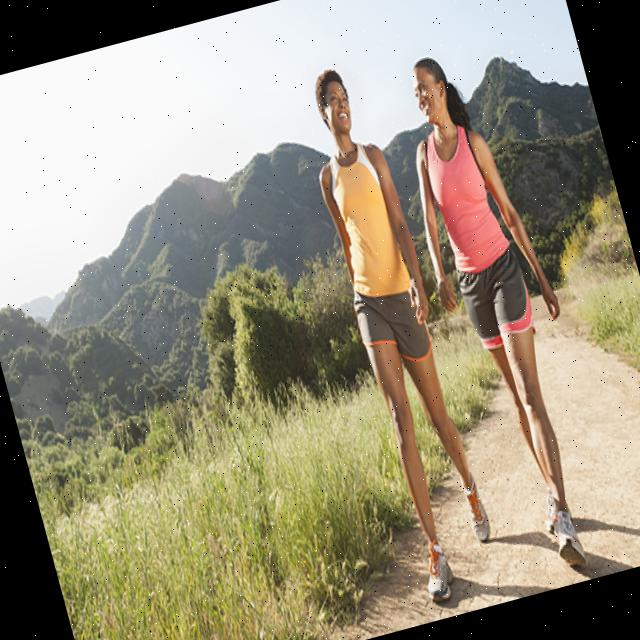Person: (380, 40, 626, 583), (290, 59, 505, 603)
